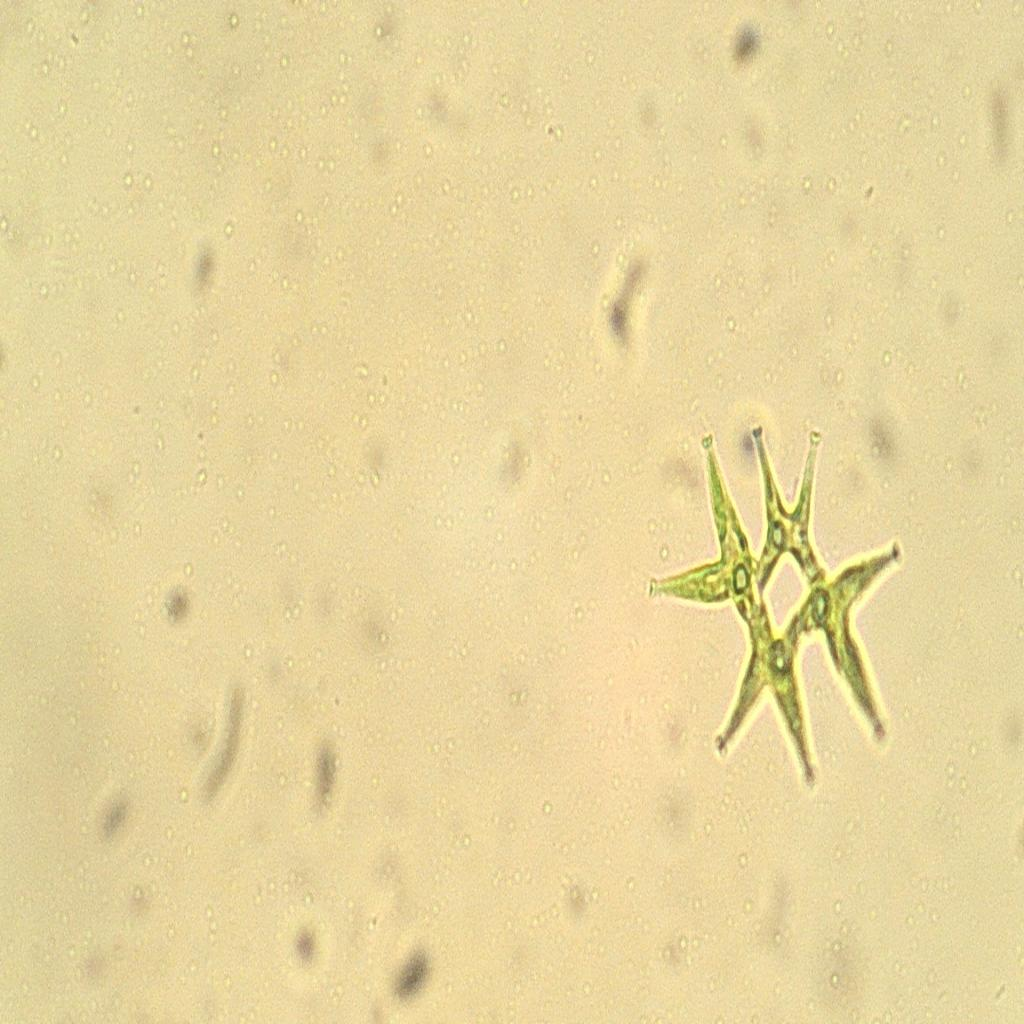Pediastrum_CF: (635, 393, 921, 815)
